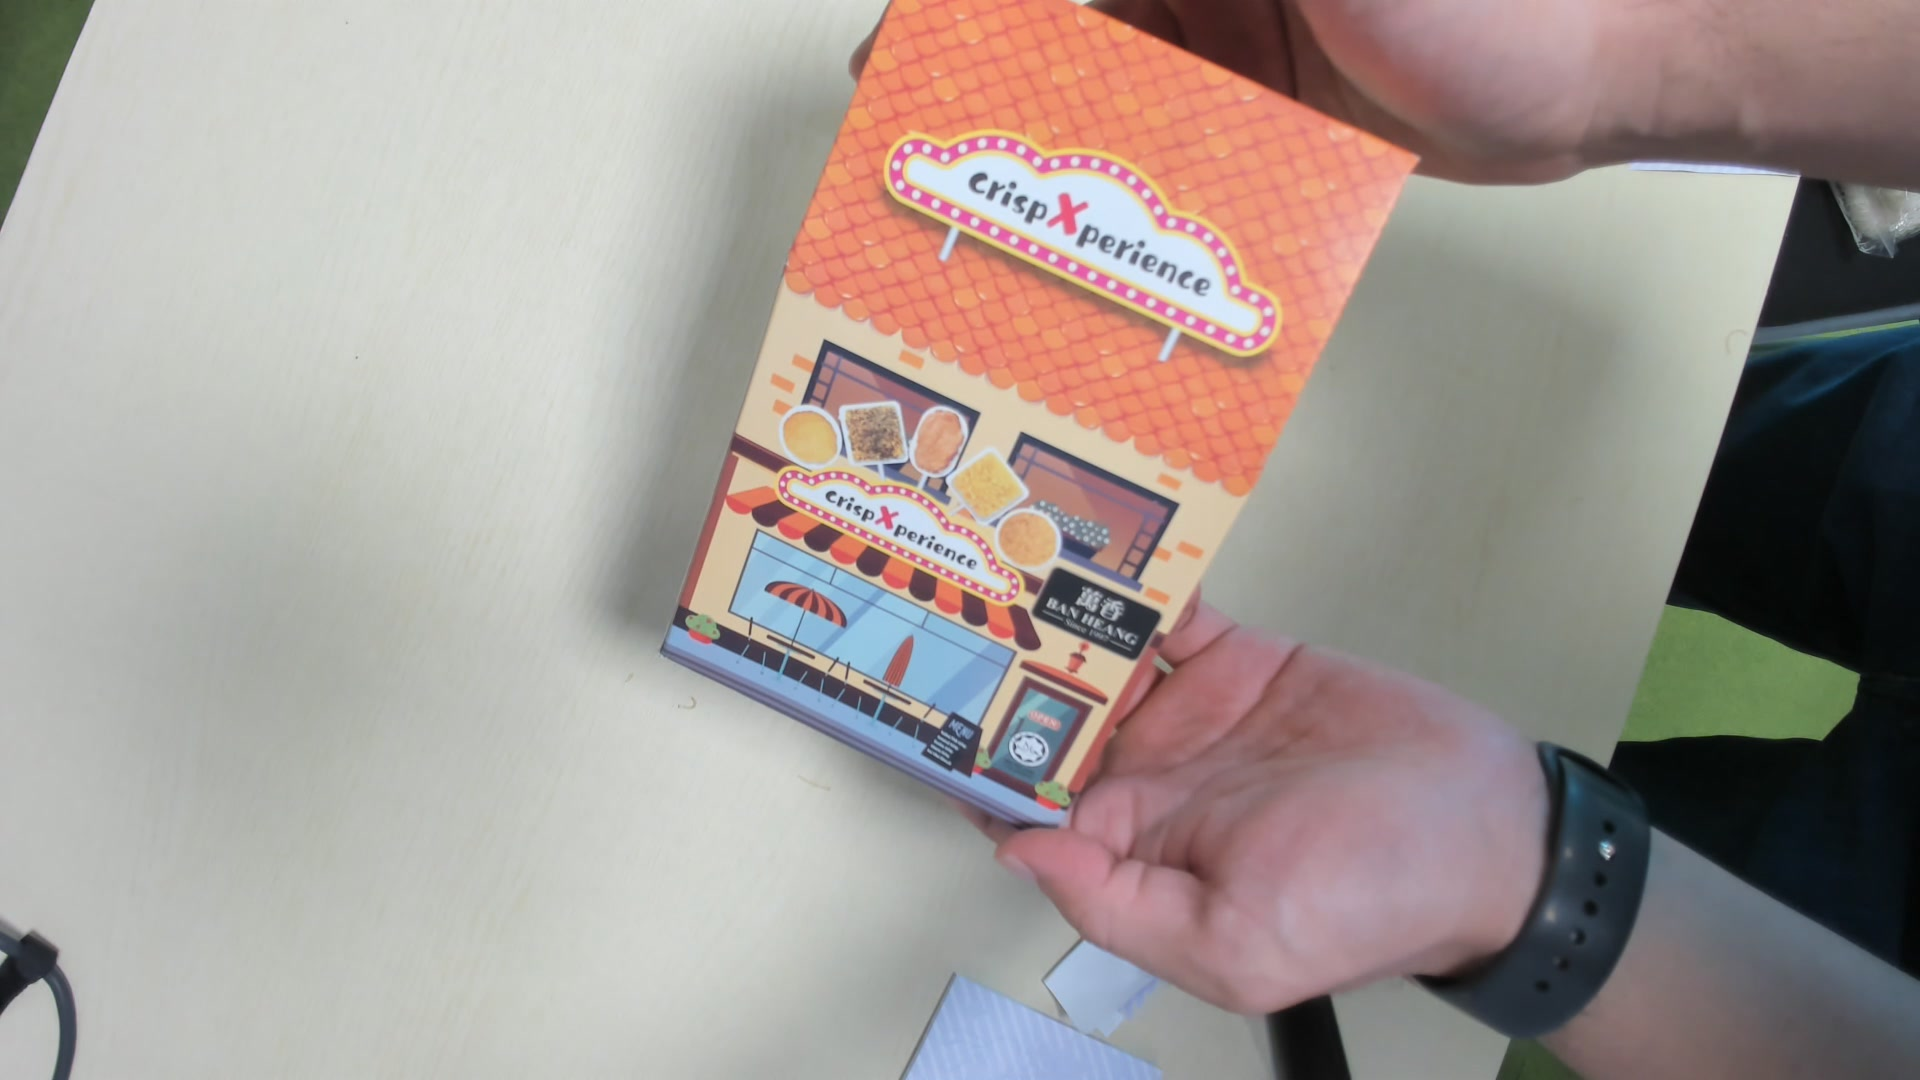SweetsChocolatesOthers_0-99g_Halal_Nonhealthy: (659, 13, 1419, 839)
